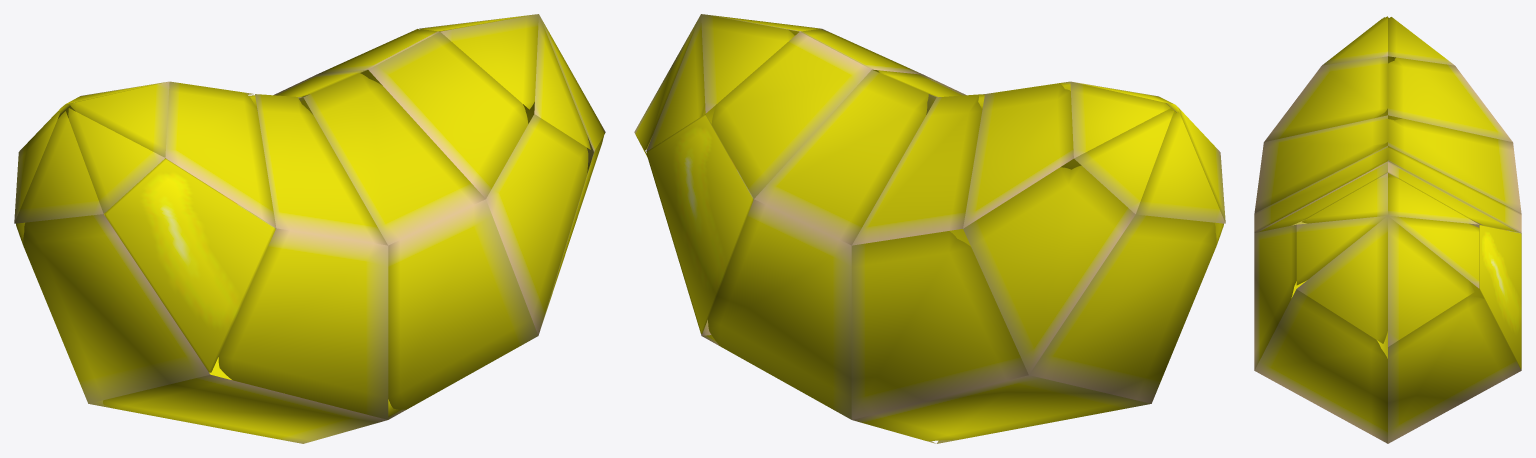
The picture shows the model from 3 angles, left to right: view 1: azimuth 30°, elevation 25°; view 2: azimuth 150°, elevation 25°; view 3: azimuth 270°, elevation 25°; orthographic projection. The views are drawn at different scales.
Visible parts, largest first — view 1: T1L1M009_9; view 2: T1L1M009_9; view 3: T1L1M009_9.
Part boxes in pixels (x1,y1,x2,y2): T1L1M009_9: (14,14,605,443); T1L1M009_9: (634,14,1225,443); T1L1M009_9: (1254,16,1521,443).
Bounding box in the file's own units: 0.5615 × 0.3604 × 0.2793.
